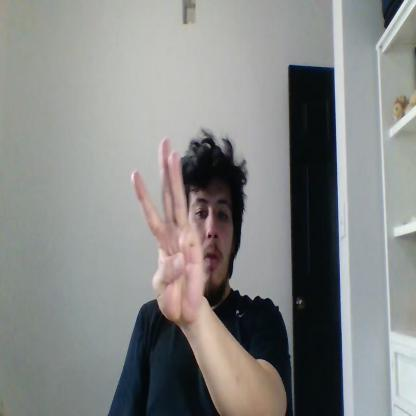W: (132, 137, 204, 323)
